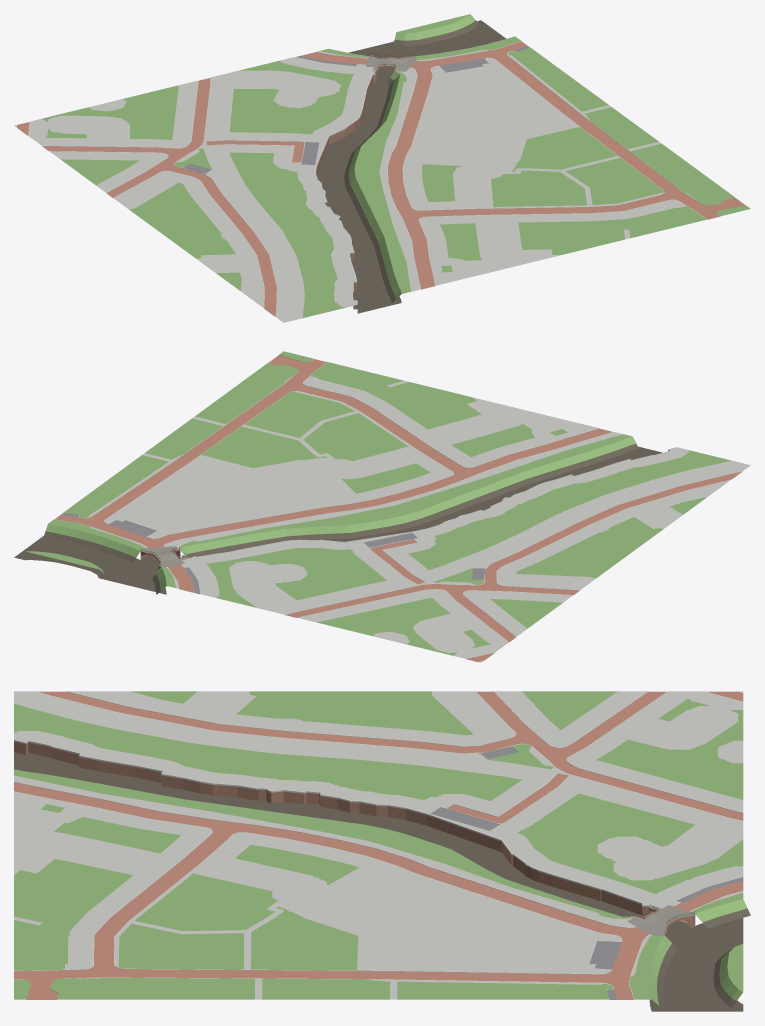
The model's file is ground_8_12.glb.
3 views of the same model, one above another, from view 1: azimuth 30°, elevation 25°; view 2: azimuth 150°, elevation 25°; view 3: azimuth 270°, elevation 25° (orthographic). The views are drawn at different scales.
Parts seen in each view (by area): view 1: ground_8_12; view 2: ground_8_12; view 3: ground_8_12.
Part boxes in pixels (<box>): ground_8_12: <box>14,14,750,322</box>; ground_8_12: <box>14,351,750,662</box>; ground_8_12: <box>14,691,750,1011</box>.
Size of the model in its own units: 200 by 5.12 by 202.
